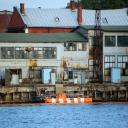submarine: (46, 95, 94, 103)
